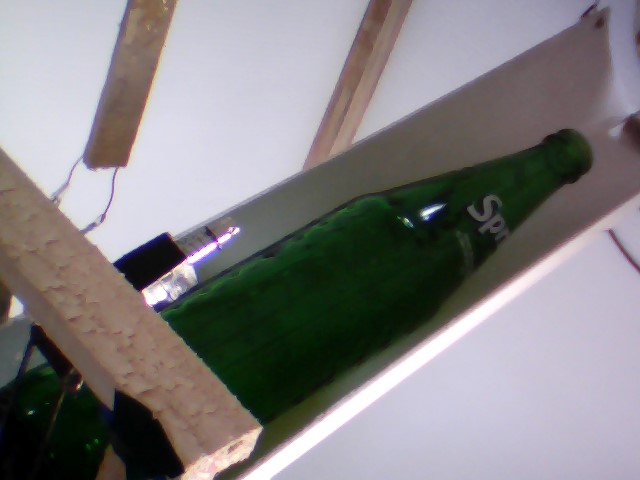vidrio: (189, 123, 601, 429)
